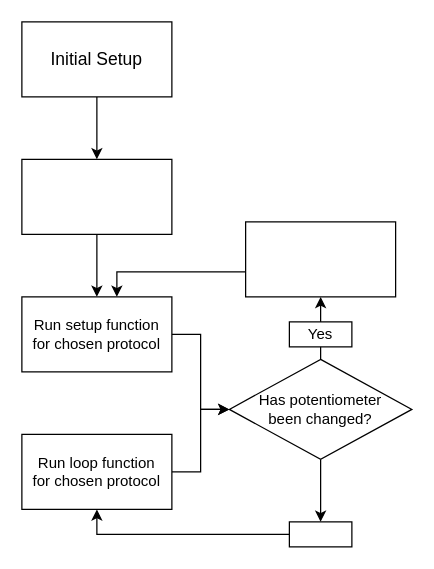
The diagram is 434 pixels wide and 569 high, and some of its shapes have lost their labels. Each missing label, with the box of its shape:
Check potentiometer and set mode accordingly: (21, 158, 172, 234)
No: (288, 521, 352, 547)
Update mode accordingly: (244, 221, 396, 297)
